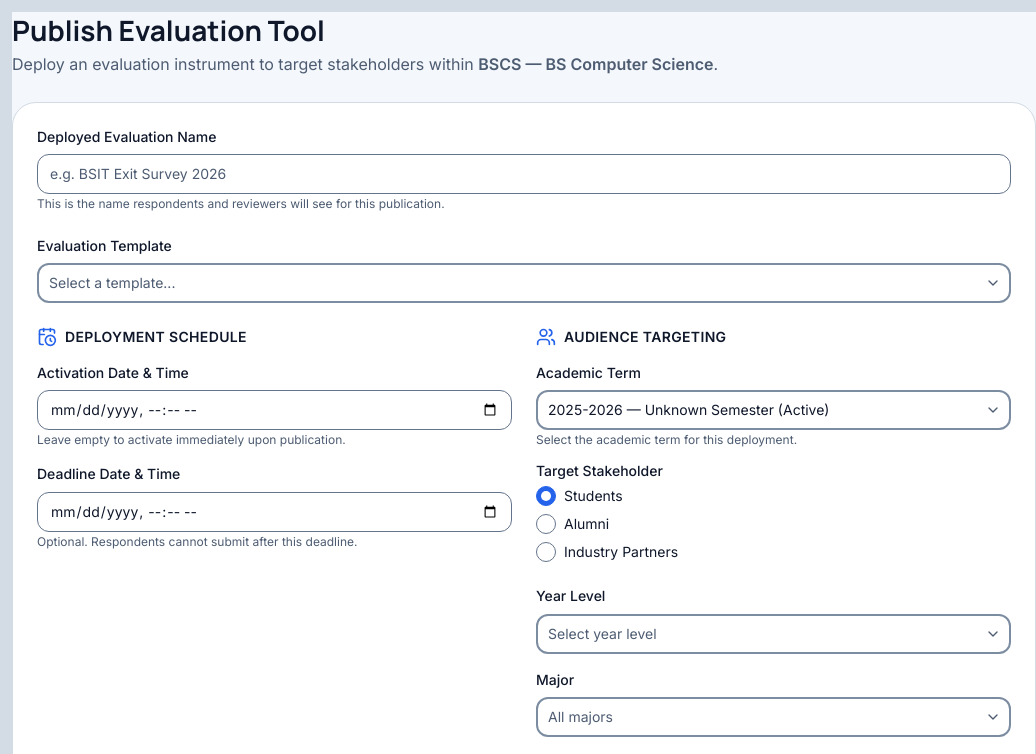
Test: PublishCentralDeploymentForm › names the unbound Likert questions of the selected template
The image size is (1036, 754).
Expected: the text "PO coverage" is not shown
Click the dropdown named "Evaluation Template": (112, 283) x1=37 y1=263 x2=1011 y2=303
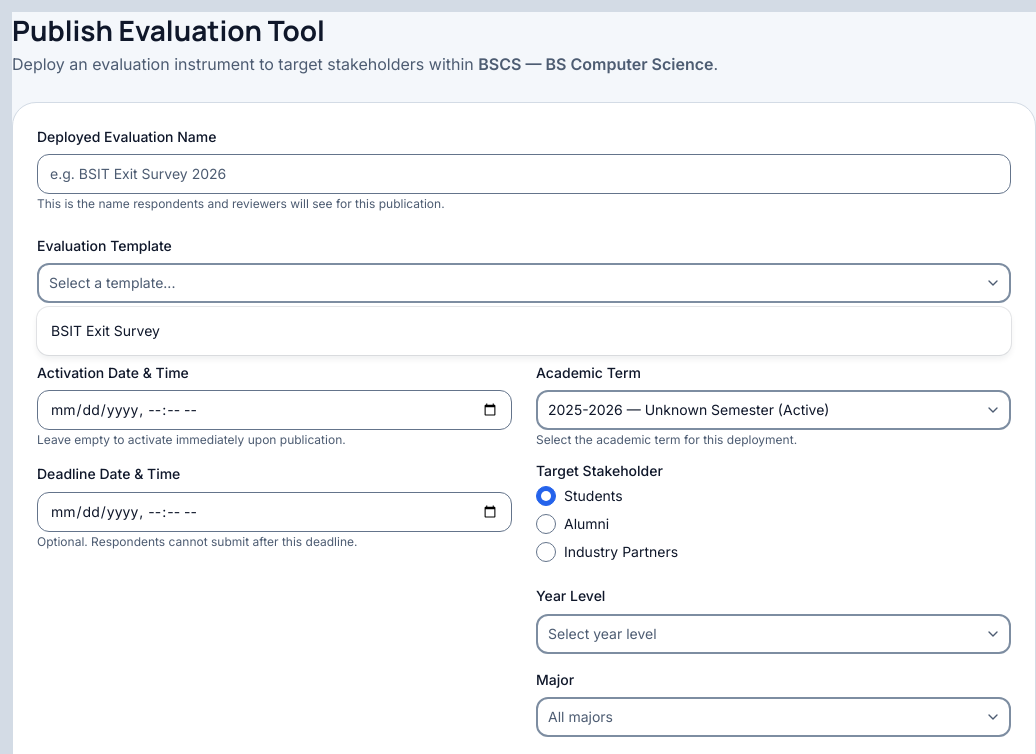
Click the option "BSIT Exit Survey": (106, 330) x1=51 y1=322 x2=160 y2=339
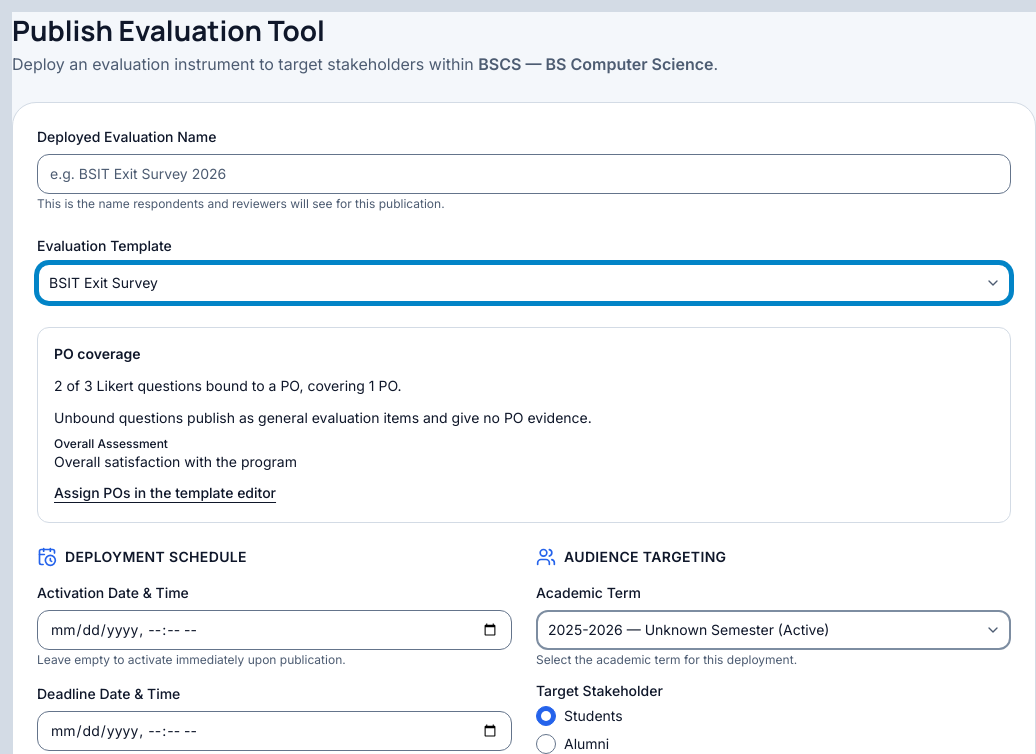
Now the heading "PO coverage" is shown, box x1=54 y1=345 x2=140 y2=362
Now the text "2 of 3 Likert questions bound to a PO, covering 1 PO." is shown, box x1=54 y1=377 x2=402 y2=394
Now the text "Overall Assessment" is shown, box x1=54 y1=436 x2=168 y2=451
